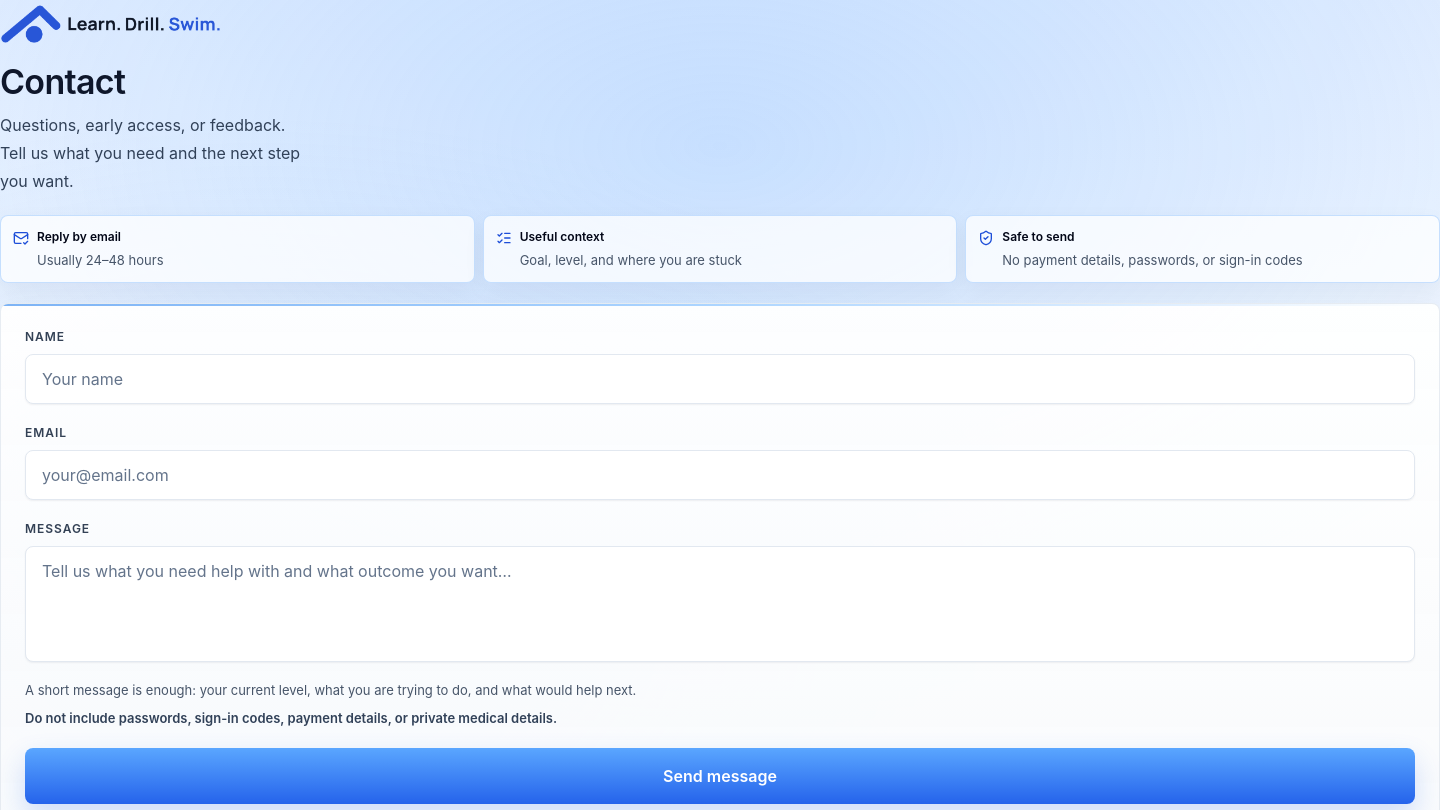
Test: ContactForm › focuses the first invalid field after submit validation fails
Click the button "Send message".
click(720, 776)  # box [25,748,1415,804]
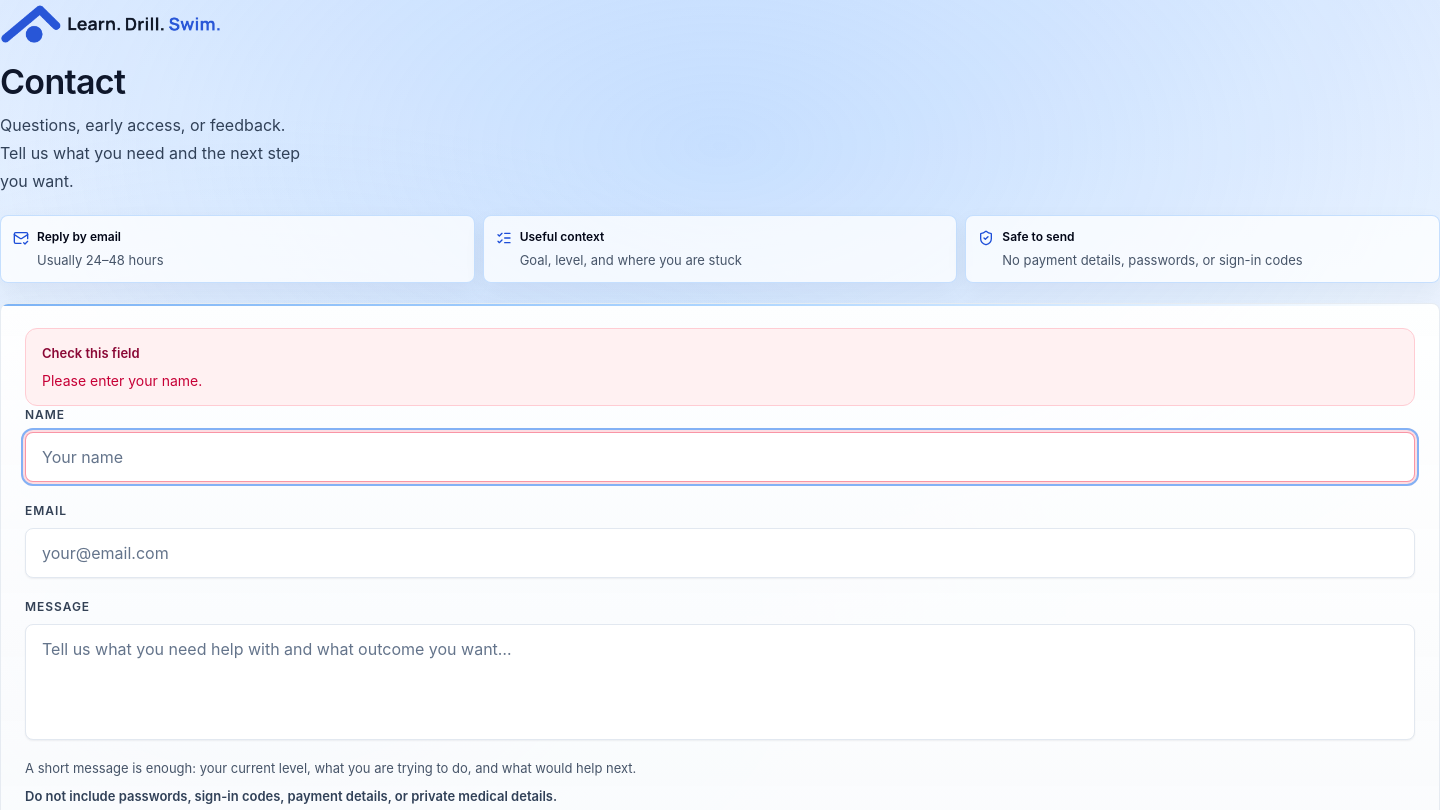
expect the message shows "Check this field": met, box [42,345,140,361]
expect the message shows "Please enter your name.": met, box [42,372,202,389]
